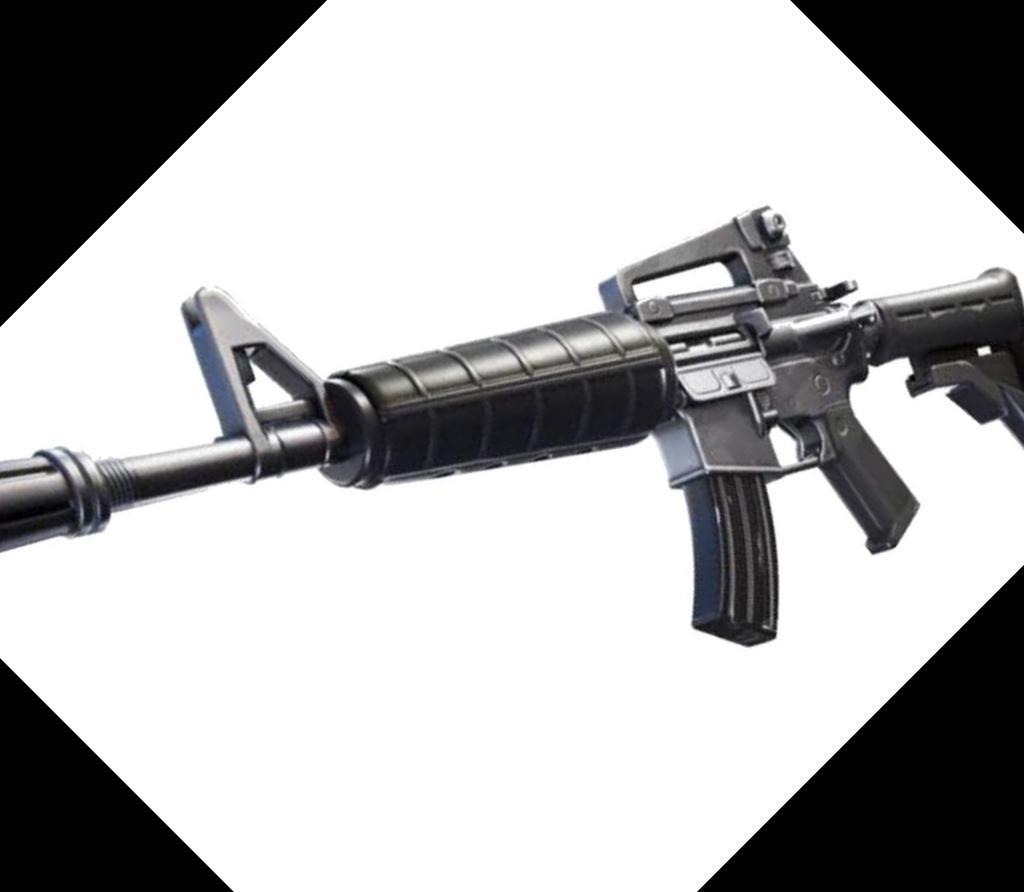larga: (1, 205, 1024, 651)
